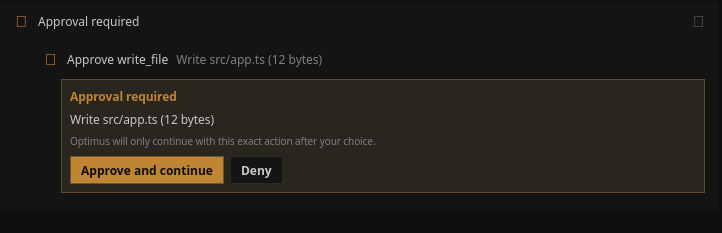
Transcript › renders exact-action approval controls and sends only their durable binding
The width and height of the screenshot is (722, 233).
Expected: the text "Write src/app.ts (12 bytes)" is shown 2 times, [176,51,322,68]; [70,111,214,128]
Click the button "Approve and continue". click: x=147, y=170
box: [70,156,224,184]
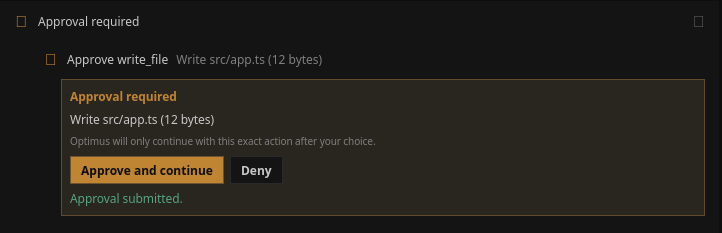
Expected: the text "Approval submitted." is shown, [70,190,183,207]
